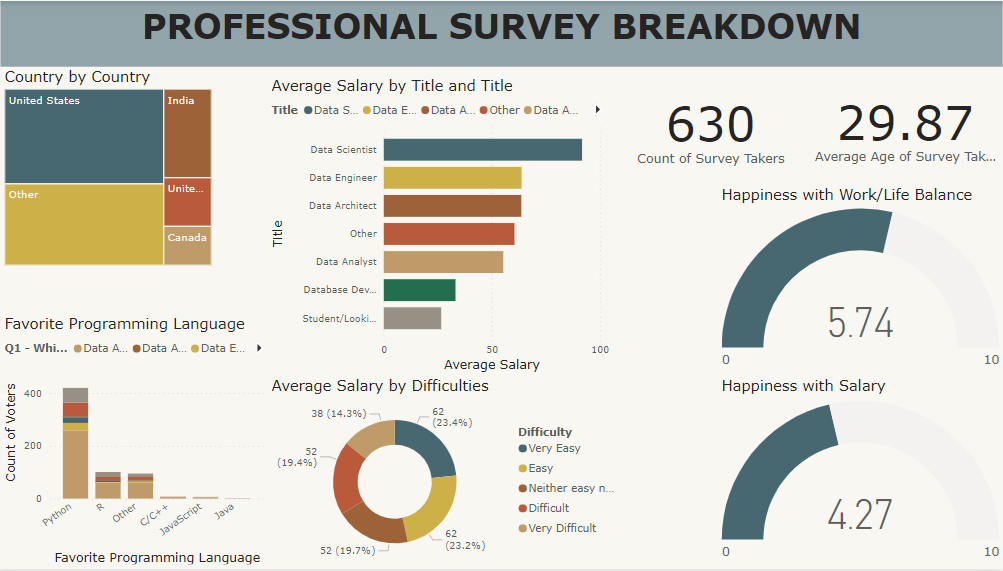

What the dashboard file says about the page in this screenshot:
{"tool":"powerbi","page":{"name":"Page 1","canvas":[1280,720],"ordinal":0},"visuals":[{"type":"textbox","box":[9.4,0,1270.6,83.1],"z":0},{"type":"card","fields":{"Values":["Count(Data Professional Survey.Unique ID)"]},"box":[787.3,85.5,245.2,150.7],"z":1000},{"type":"card","fields":{"Values":["Avg(Data Professional Survey.Q10 - Current Age)"]},"box":[1032.5,83.2,247.5,150.7],"z":2000},{"type":"barChart","fields":{"Category":["Data Professional Survey.Q1 - Which Title Best Fits your Current Role?.1"],"Y":["Avg(Data Professional Survey.Average Salary)"],"Series":["Data Professional Survey.Q1 - Which Title Best Fits your Current Role?.1"]},"box":[348.7,94.5,438.7,380.2],"z":3000},{"type":"columnChart","title":"Favorite Programming Language","fields":{"Category":["Data Professional Survey.Q5 - Favorite Programming Language.1"],"Y":["CountNonNull(Data Professional Survey.Unique ID)"],"Series":["Data Professional Survey.Q1 - Which Title Best Fits your Current Role?.1"]},"box":[9,398.2,339.7,321.7],"z":4000},{"type":"treemap","fields":{"Group":["Data Professional Survey.Q11 - Which Country do you live in?.1"],"Values":["CountNonNull(Data Professional Survey.Q11 - Which Country do you live in?.1)"]},"box":[9,83.2,272.2,256.4],"z":5000},{"type":"gauge","title":"Happiness with Salary","fields":{"Y":["Avg(Data Professional Survey.Q6 - How Happy are you in your Current Position with the following? (Salary))"],"MinValue":["Min(Data Professional Survey.Q6 - How Happy are you in your Current Position with the following? (Salary))"],"MaxValue":["Max(Data Professional Survey.Q6 - How Happy are you in your Current Position with the following? (Salary))1"]},"box":[917.8,474.7,362.2,245.2],"z":6000},{"type":"gauge","title":"Happiness with Work/Life Balance","fields":{"Y":["Avg(Data Professional Survey.Q6 - How Happy are you in your Current Position with the following? (Work/Life Balance))"],"MinValue":["Min(Data Professional Survey.Q6 - How Happy are you in your Current Position with the following? (Work/Life Balance))1"],"MaxValue":["Max(Data Professional Survey.Q6 - How Happy are you in your Current Position with the following? (Work/Life Balance))2"]},"box":[917.8,234,362.2,240.7],"z":7000},{"type":"donutChart","title":"Average Salary by Difficulties","fields":{"Y":["Avg(Data Professional Survey.Average Salary)"],"Category":["Data Professional Survey.Q7 - How difficult was it for you to break into Data?"]},"box":[348.7,474.7,456.7,245.2],"z":8000}]}

Visuals, with their boxes in screenshot pixels (x1, y1, x2, y2), scaled from the page's 1280x720 canvas onto the 1003x571 screenshot:
textbox: Rect(7, 0, 1002, 66)
card - Count(Data Professional Survey.Unique ID): Rect(617, 68, 809, 187)
card - Avg(Data Professional Survey.Q10 - Current Age): Rect(809, 66, 1002, 185)
barChart - Data Professional Survey.Q1 - Which Title Best Fits your Current Role?.1 x Avg(Data Professional Survey.Average Salary): Rect(273, 75, 617, 376)
"Favorite Programming Language" columnChart: Rect(7, 316, 273, 570)
treemap - Data Professional Survey.Q11 - Which Country do you live in?.1 x CountNonNull(Data Professional Survey.Q11 - Which Country do you live in?.1): Rect(7, 66, 220, 269)
"Happiness with Salary" gauge: Rect(719, 376, 1002, 570)
"Happiness with Work/Life Balance" gauge: Rect(719, 186, 1002, 376)
"Average Salary by Difficulties" donutChart: Rect(273, 376, 631, 570)
